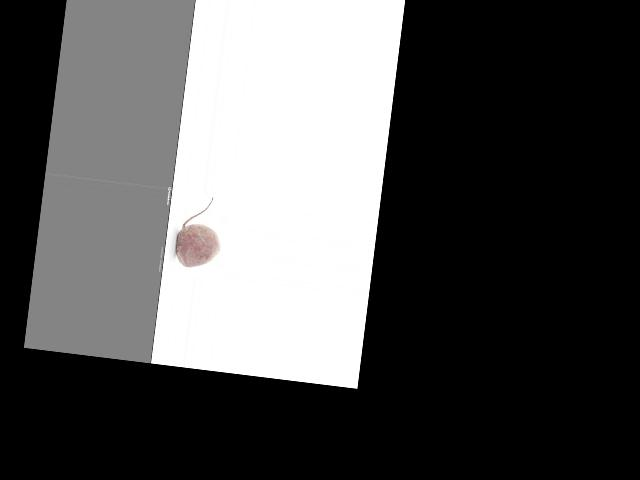beet: (173, 193, 225, 271)
